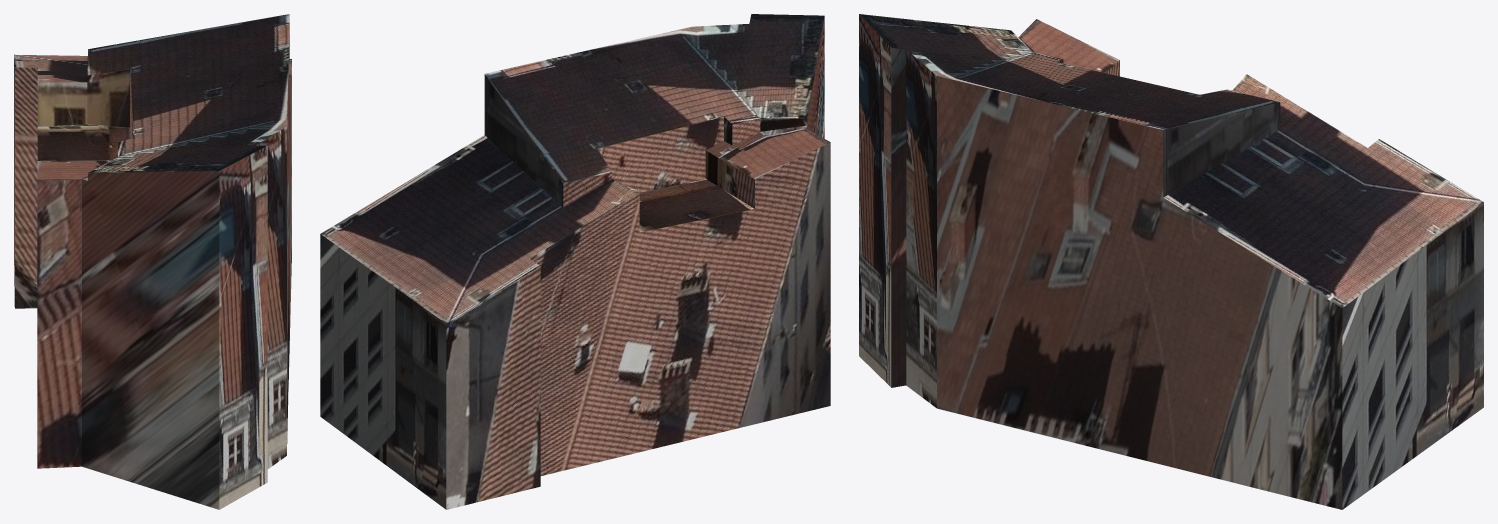
3 views of the same model, side by side, from view 1: azimuth 30°, elevation 25°; view 2: azimuth 150°, elevation 25°; view 3: azimuth 270°, elevation 25° (orthographic). The views are drawn at different scales.
Visible parts, largest first — view 1: Z_UP; view 2: Z_UP; view 3: Z_UP.
Part boxes in pixels (box(x1,y1,x2,y2)): Z_UP: box(14, 14, 291, 509); Z_UP: box(320, 14, 830, 509); Z_UP: box(859, 14, 1483, 509).
Bounding box in the file's own units: 17.46 × 13.92 × 23.03.
2 materials, 1 textured.
